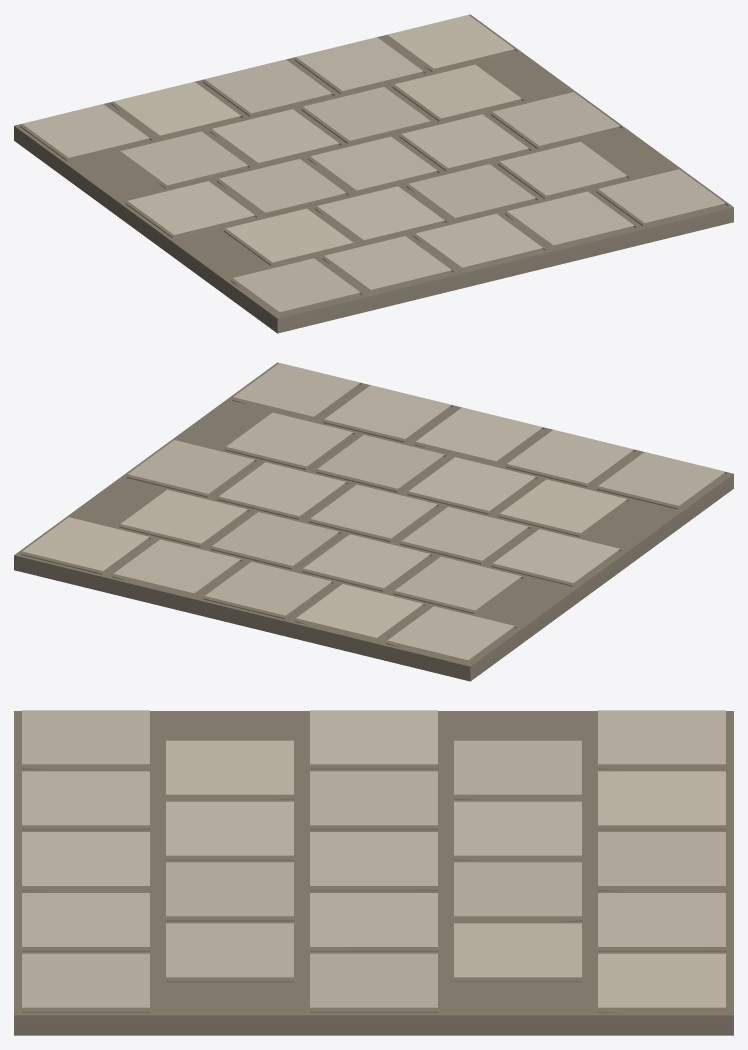
File: paving.lod.glb
3 renders of one model, top to bottom at view 1: azimuth 30°, elevation 25°; view 2: azimuth 150°, elevation 25°; view 3: azimuth 270°, elevation 25°, orthographic. The views are drawn at different scales.
Visible parts, largest first — view 1: paving; view 2: paving; view 3: paving.
Part boxes in pixels (x1,y1,x2,y2): paving: (14,14,733,333); paving: (14,362,733,681); paving: (14,710,733,1035).
Bounding box in the file's own units: 4 × 0.15 × 4.
